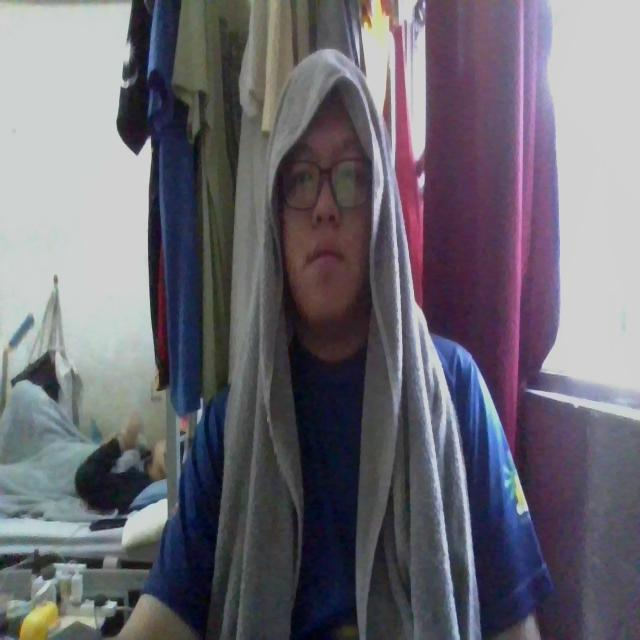person_without_labcoat: (118, 51, 550, 639)
